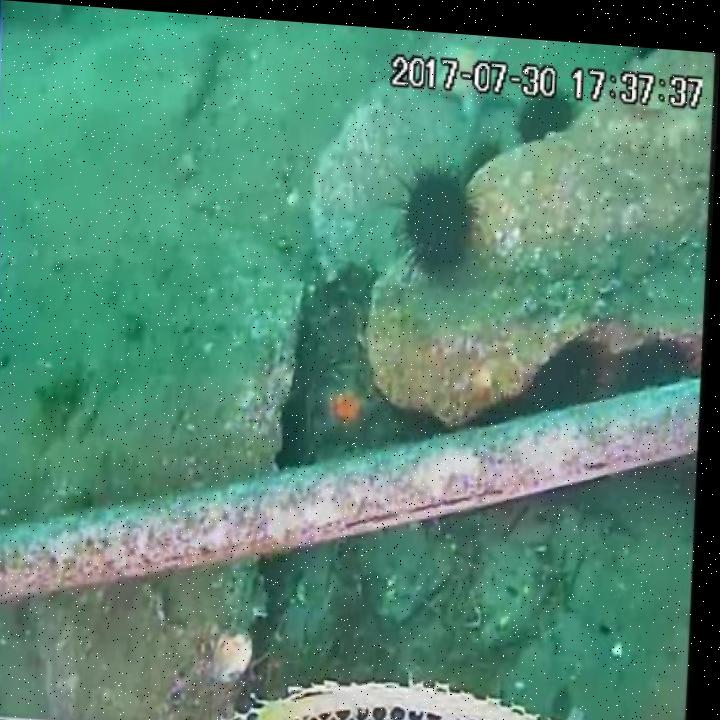echinus: (399, 154, 481, 270), (541, 329, 608, 403), (627, 322, 696, 389), (516, 82, 575, 134)
starfish: (313, 363, 395, 451)
